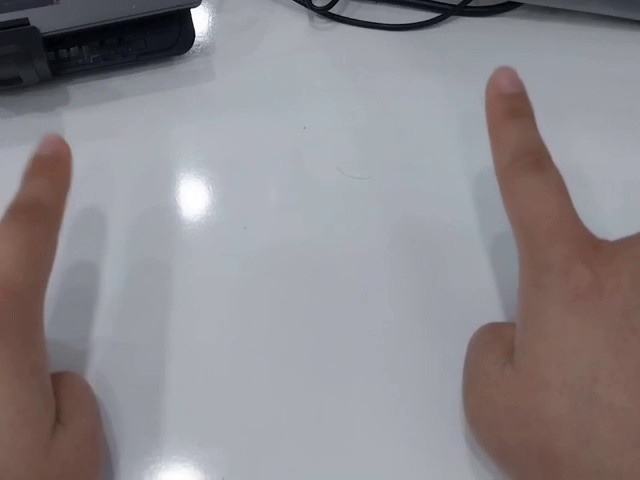fingers: (484, 64, 537, 122), (24, 131, 75, 184)
